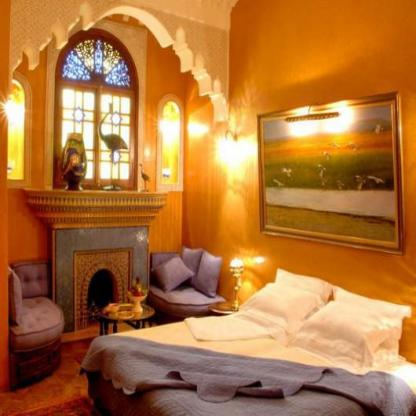other: (182, 108, 259, 174), (279, 108, 351, 140), (226, 243, 262, 295), (152, 108, 182, 156), (0, 90, 30, 136)
